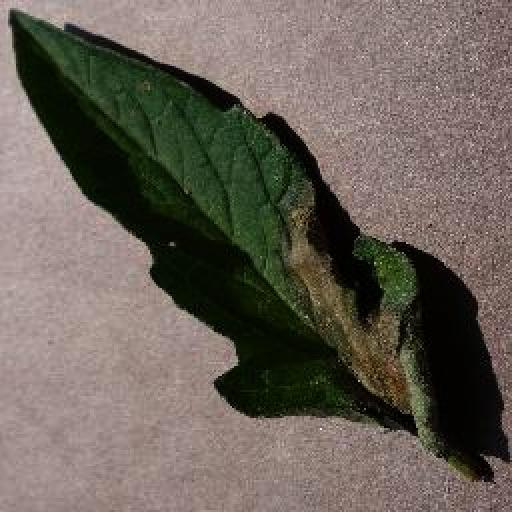disease_tomato: (6, 4, 496, 488)
